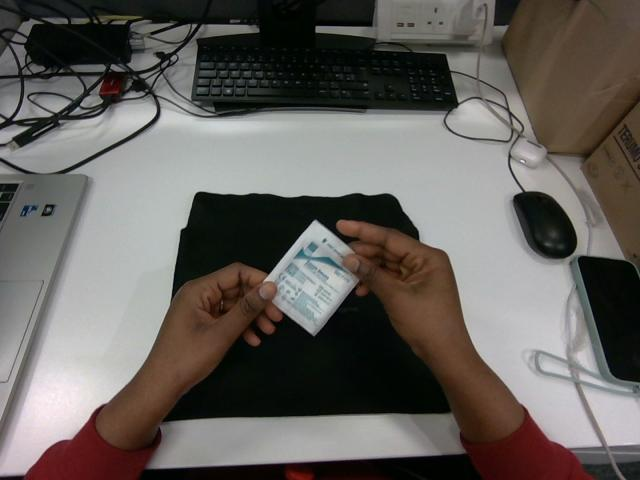gauze: (266, 220, 357, 335)
